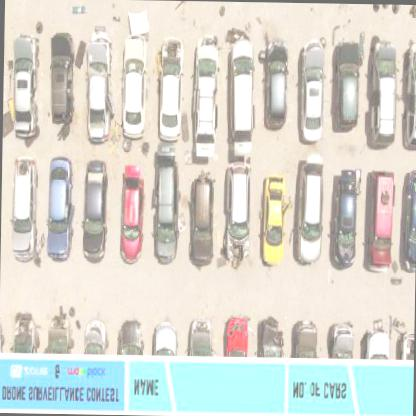car: (225, 37, 253, 154), (295, 153, 324, 264), (83, 30, 112, 141), (9, 155, 39, 260), (44, 156, 74, 260), (193, 36, 217, 158), (153, 148, 178, 262), (368, 44, 396, 145), (10, 34, 37, 137), (332, 167, 359, 268), (80, 159, 107, 260), (120, 34, 146, 138), (188, 170, 215, 269), (157, 36, 182, 140), (225, 161, 250, 264), (298, 38, 323, 141), (368, 170, 393, 270), (48, 30, 74, 124), (333, 38, 359, 130), (118, 166, 142, 260), (264, 35, 288, 128), (262, 171, 285, 262), (402, 168, 415, 273), (403, 38, 415, 151), (254, 314, 282, 357), (222, 314, 250, 356), (44, 314, 70, 354), (290, 318, 318, 354), (12, 311, 36, 352), (186, 316, 212, 353), (116, 318, 141, 354), (151, 320, 176, 355), (364, 328, 392, 358), (82, 318, 105, 354), (331, 322, 354, 356)
